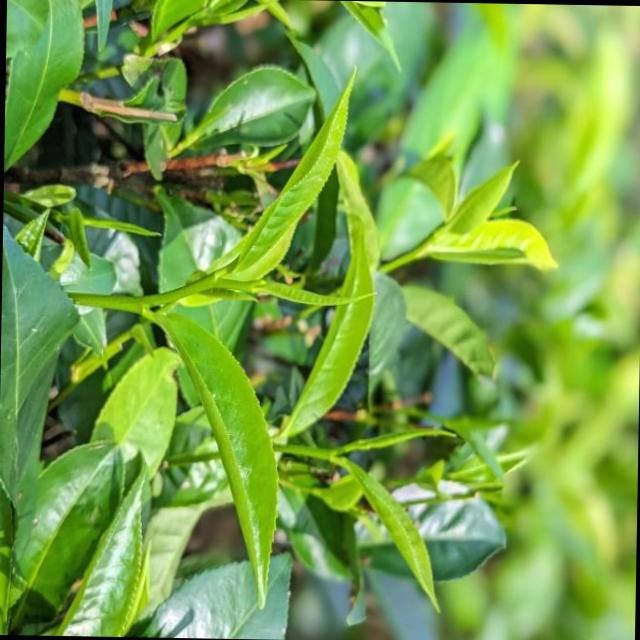Stem: (193, 274, 215, 292), (314, 447, 330, 461), (408, 245, 423, 259)
